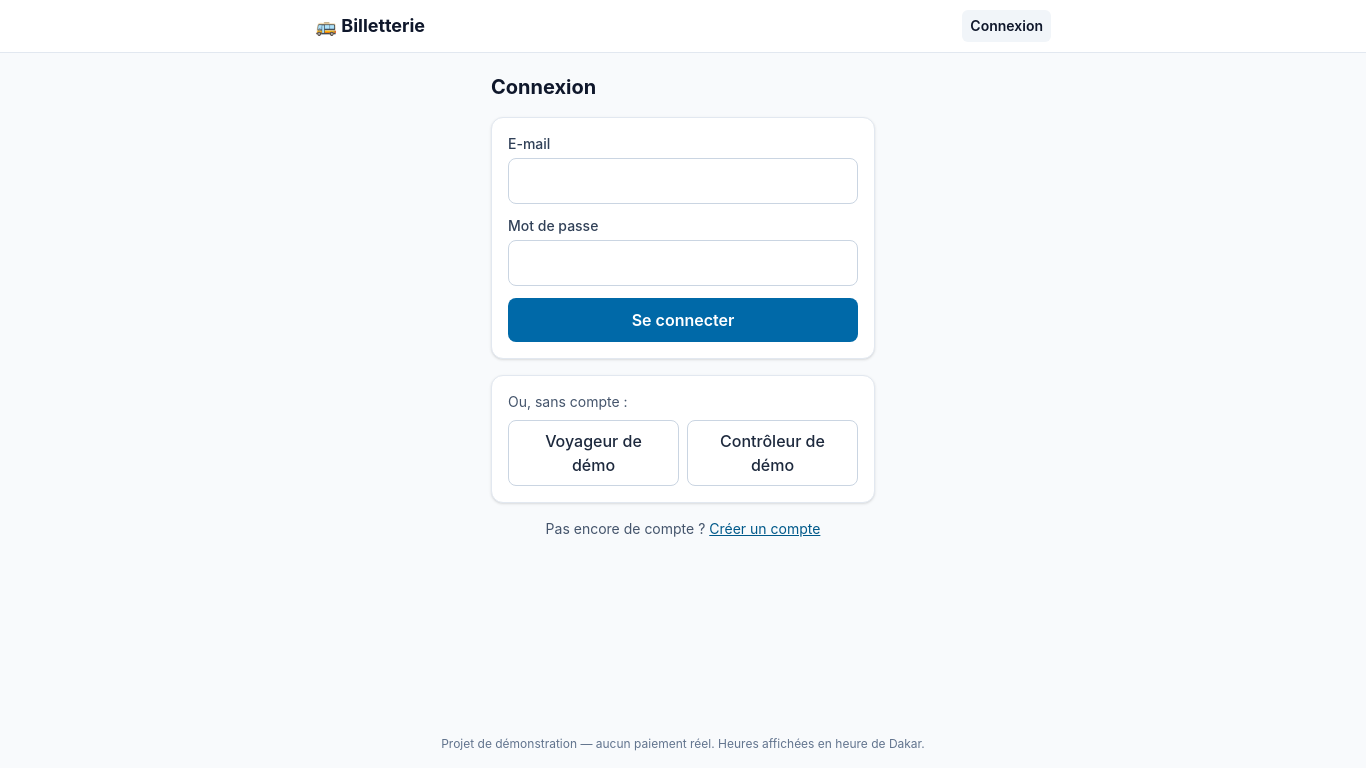
Test: connexion › valide le formulaire avec le schéma partagé avant tout appel
Type "pas-un-email" into the field labelled "E-mail". click: x=683, y=181
box: [508, 158, 858, 204]
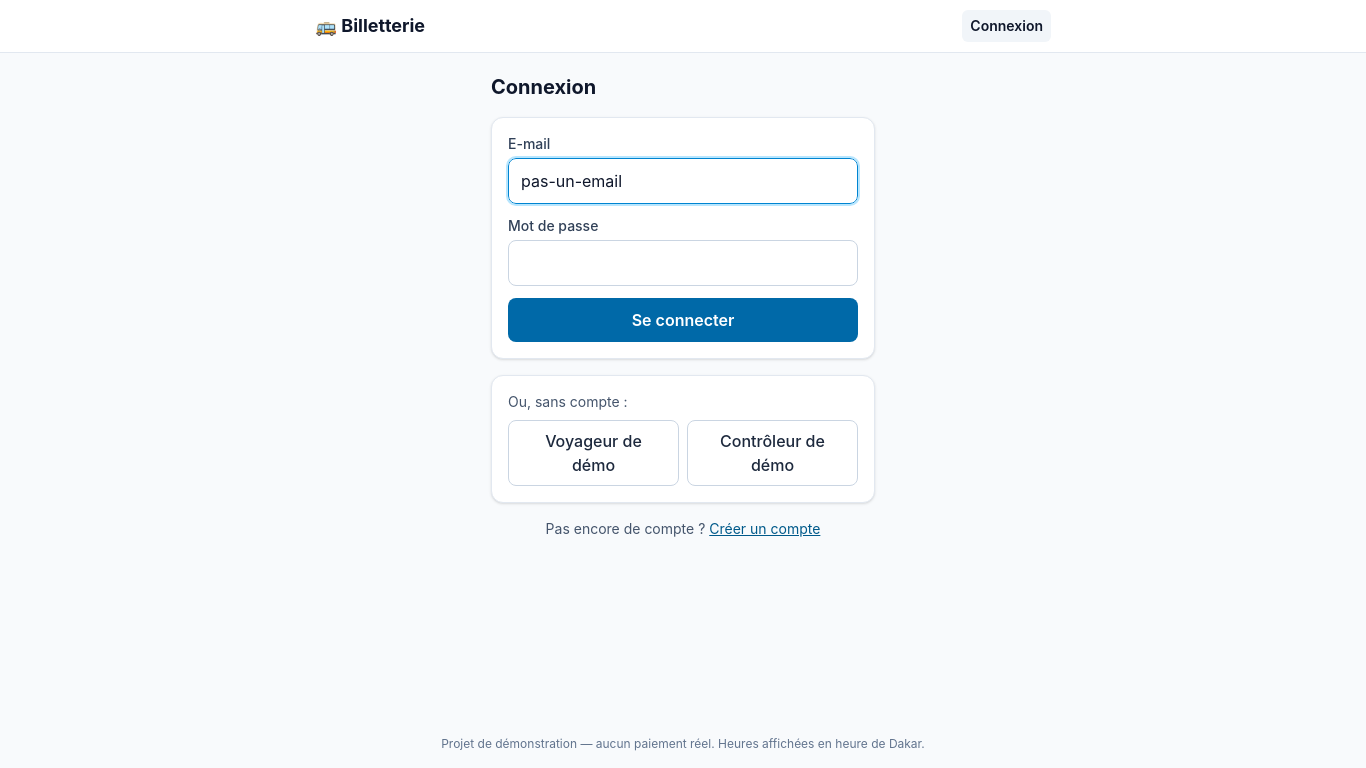
Click the button "Se connecter". click: x=683, y=320
box: [508, 298, 858, 342]
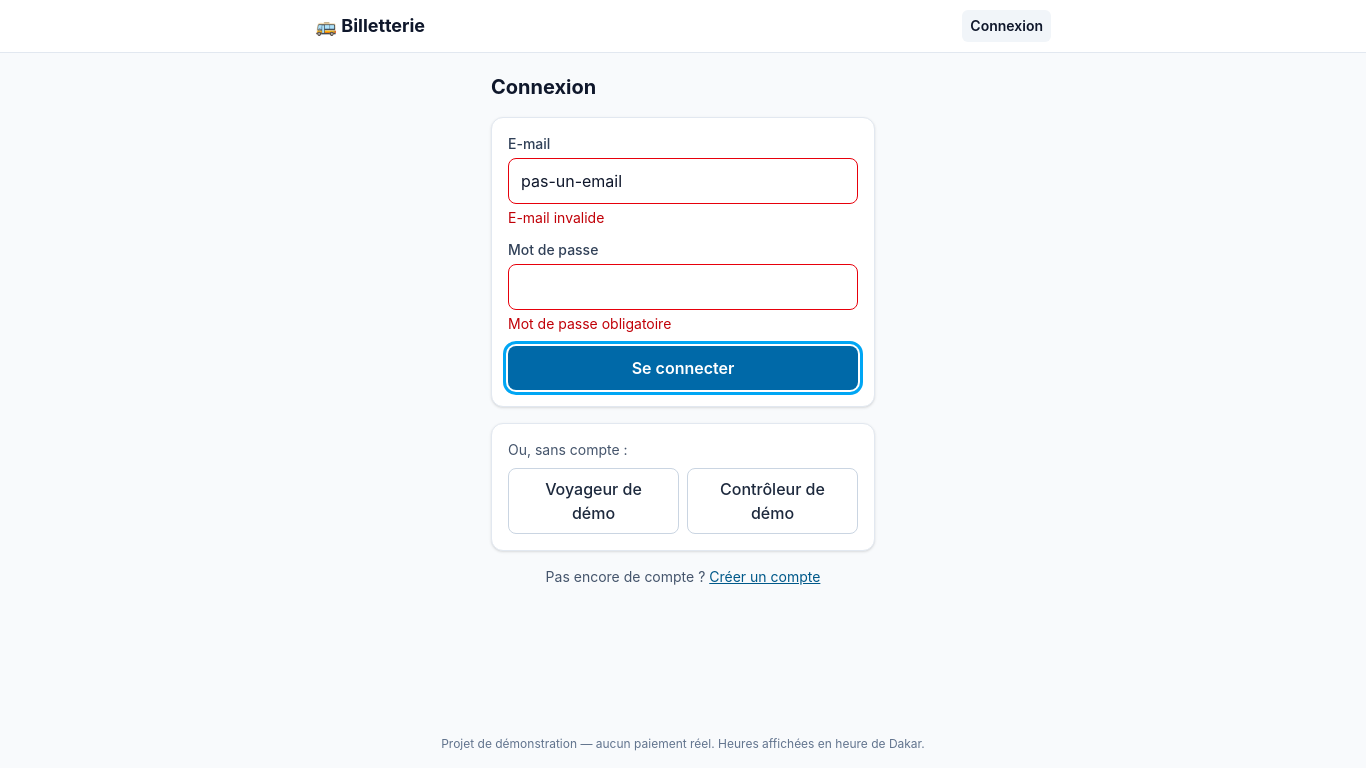
Result: the text "E-mail invalide" is shown at [508, 209, 604, 226]
Result: the text "Mot de passe obligatoire" is shown at [508, 315, 671, 332]
